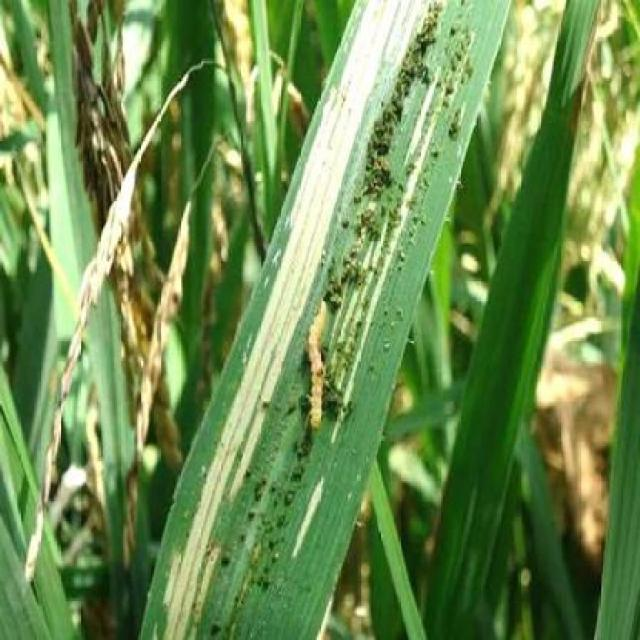leaf-folder: (302, 278, 340, 436)
